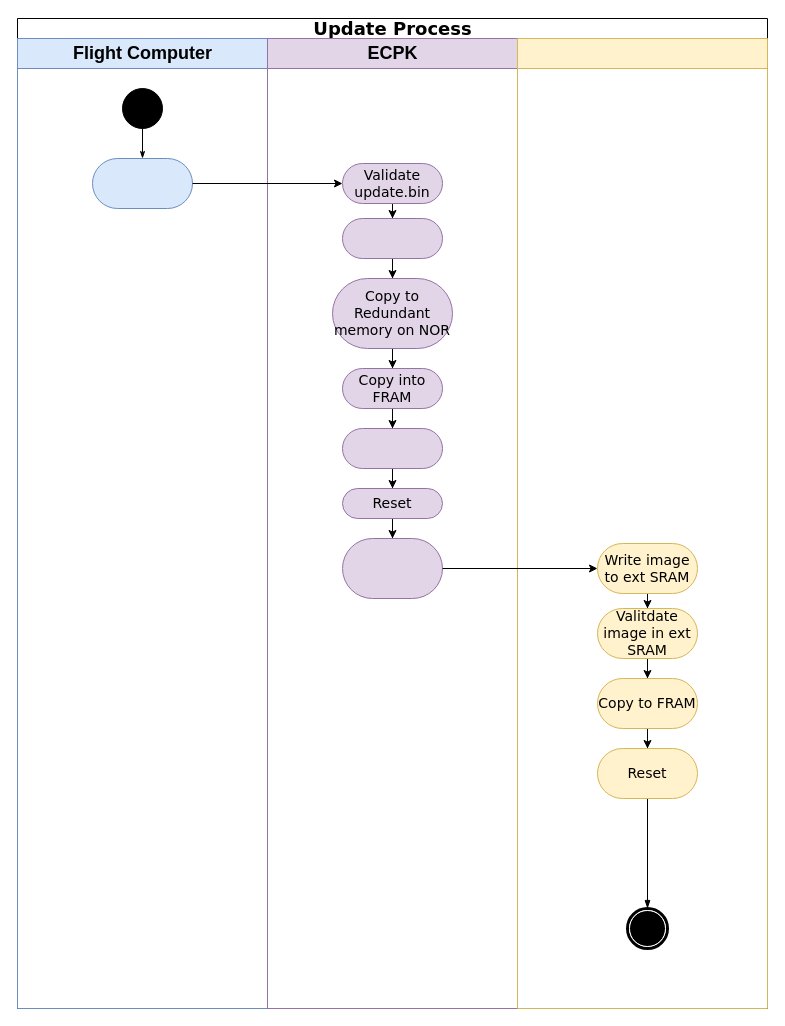
This 785x1026 diagram has some shape labels left out. The shapes that lost their labels are listed below. From the top down, each one's box as (x1, y1, x2, y2) in pixels, then its label:
(92, 158, 192, 208): Transfer update.bin
(342, 218, 442, 258): Update command
(342, 428, 442, 468): Set Flag in IACM
(516, 38, 768, 1008): ACP/MVCP
(342, 538, 442, 598): Send update image to client
